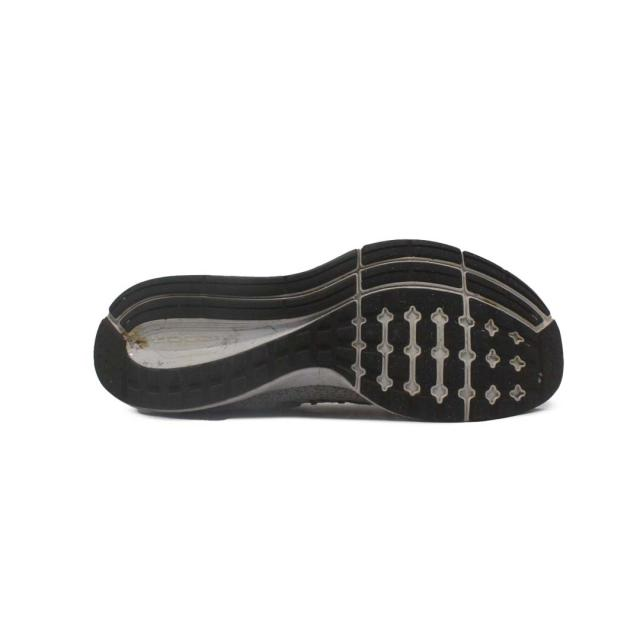outersole: (90, 225, 565, 429)
